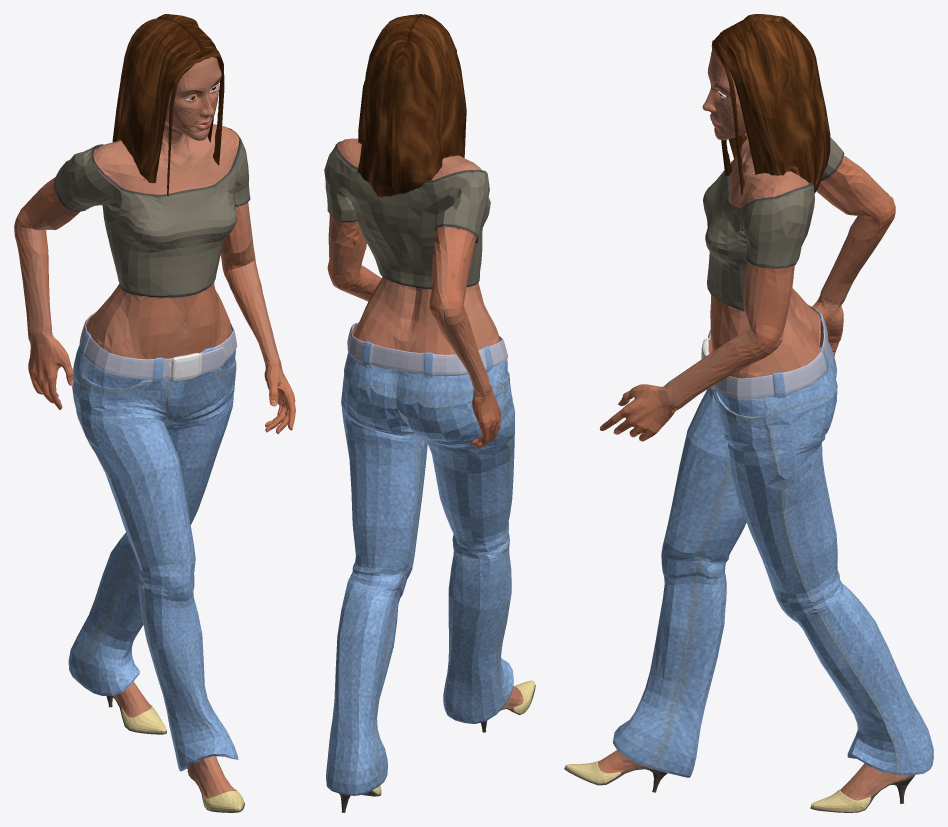
The model's file is valerie1.obj.
3 views of the same model, side by side, from view 1: azimuth 30°, elevation 25°; view 2: azimuth 150°, elevation 25°; view 3: azimuth 270°, elevation 25° (orthographic). The views are drawn at different scales.
Parts seen in each view (by area): view 1: Body, Hair; view 2: Body, Hair; view 3: Body, Hair.
Part boxes in pixels (<box>): Body: <box>14,57,295,812</box>; Hair: <box>112,14,224,195</box>; Body: <box>324,138,535,812</box>; Hair: <box>357,14,466,197</box>; Body: <box>564,48,933,812</box>; Hair: <box>711,14,830,194</box>.
Bounding box in the file's own units: 46.26 × 169 × 72.24.
9 materials, 9 textured.
